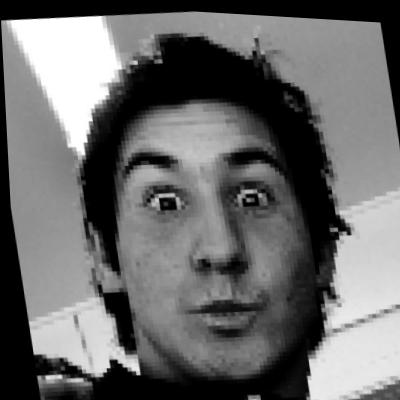surprise: (94, 86, 331, 386)
